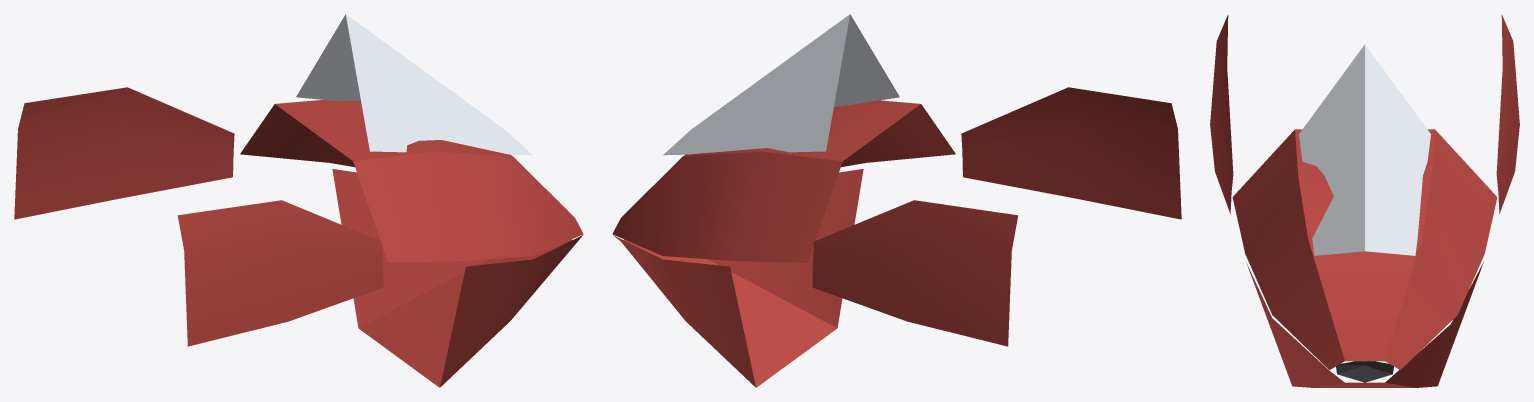
File: half_lod2.glb
3 views of the same model, side by side, from view 1: azimuth 30°, elevation 25°; view 2: azimuth 150°, elevation 25°; view 3: azimuth 270°, elevation 25° (orthographic). The views are drawn at different scales.
Visible parts, largest first — view 1: half_lod2; view 2: half_lod2; view 3: half_lod2.
Boxes of the visible parts, x1,y1,x2,y2 form: half_lod2: (14, 14, 583, 387); half_lod2: (612, 14, 1181, 387); half_lod2: (1210, 14, 1519, 387).
Size of the model in its own units: 0.652 by 0.481 by 0.4235.
